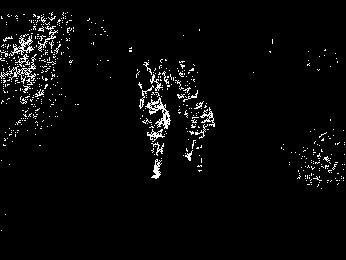person: (143, 82, 175, 183), (182, 86, 218, 175)
